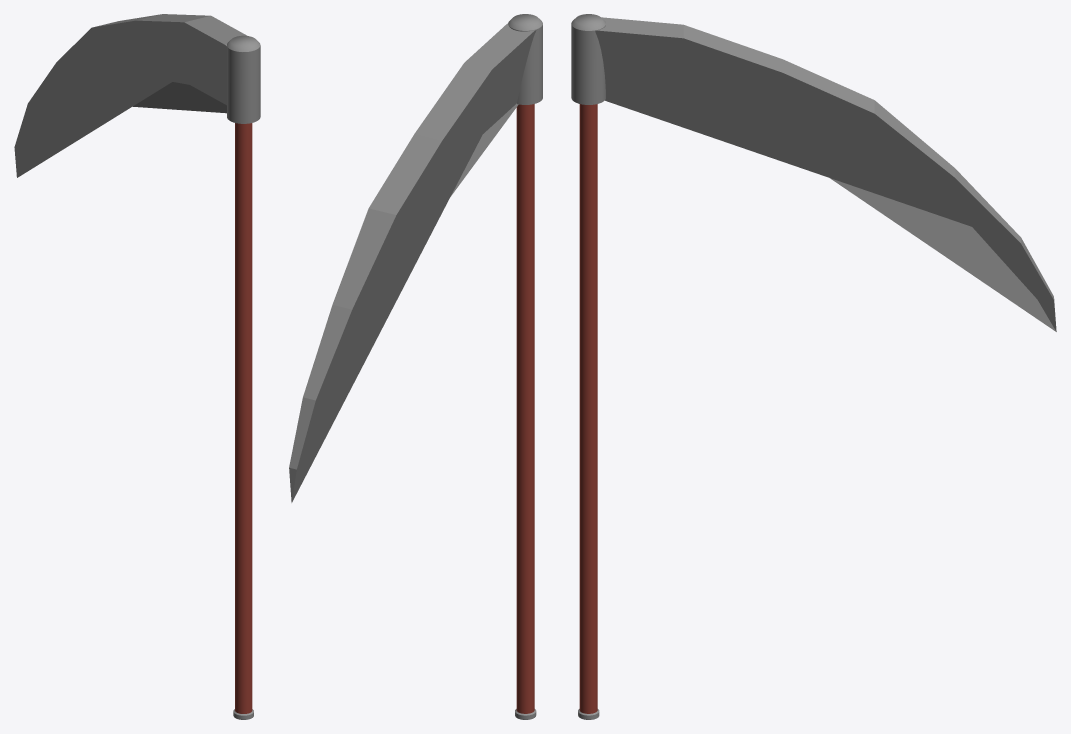
File: scythe.fbx
3 views of the same model, side by side, from view 1: azimuth 30°, elevation 25°; view 2: azimuth 150°, elevation 25°; view 3: azimuth 270°, elevation 25° (orthographic). The views are drawn at different scales.
Visible parts, largest first — view 1: Cube, Cylinder; view 2: Cube, Cylinder; view 3: Cube, Cylinder.
Part boxes in pixels (<box>): Cube: <box>14,14,247,177</box>; Cylinder: <box>227,35,260,719</box>; Cube: <box>289,23,536,502</box>; Cylinder: <box>508,14,542,719</box>; Cube: <box>595,17,1056,331</box>; Cylinder: <box>571,14,605,719</box>.
Bounding box in the file's own units: 6.52 × 144 × 91.04.
